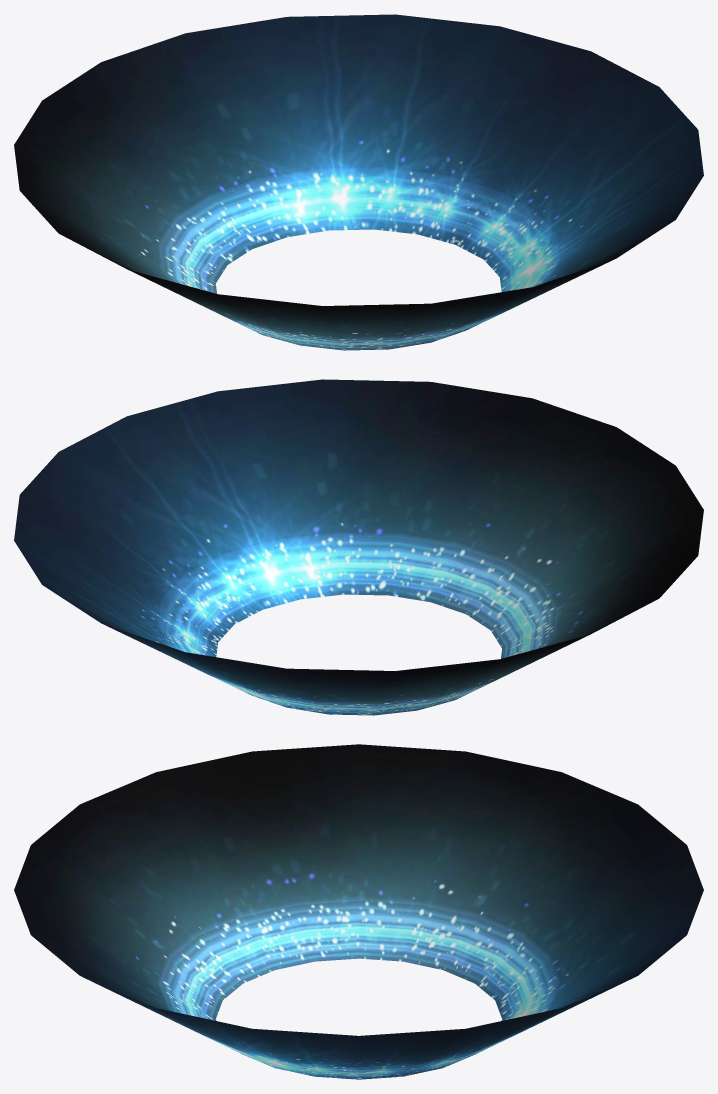
Rendered from GroundWave.fbx.
3 renders of one model, top to bottom at view 1: azimuth 30°, elevation 25°; view 2: azimuth 150°, elevation 25°; view 3: azimuth 270°, elevation 25°, orthographic.
Visible parts, largest first — view 1: pCylinder1; view 2: pCylinder1; view 3: pCylinder1.
Part boxes in pixels (bbox=[...]): pCylinder1: bbox=[14, 14, 703, 350]; pCylinder1: bbox=[14, 379, 703, 715]; pCylinder1: bbox=[14, 744, 703, 1079].
Bounding box in the file's own units: 4.82 × 0.9944 × 4.82.
